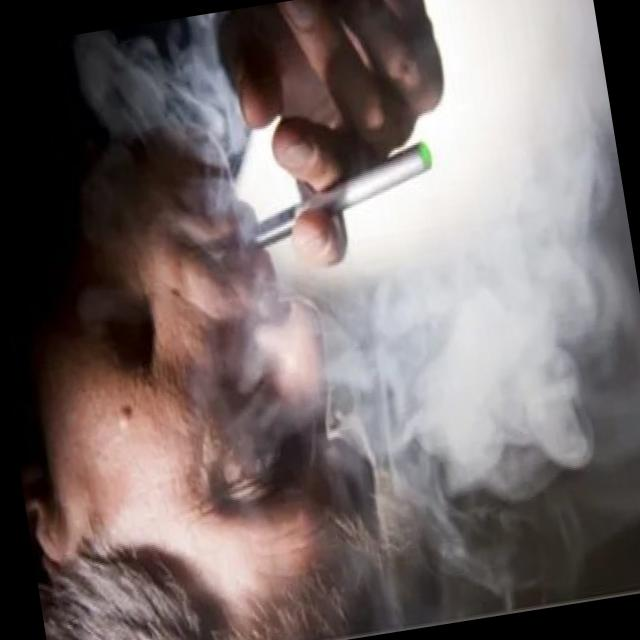smoke: (237, 132, 446, 254)
